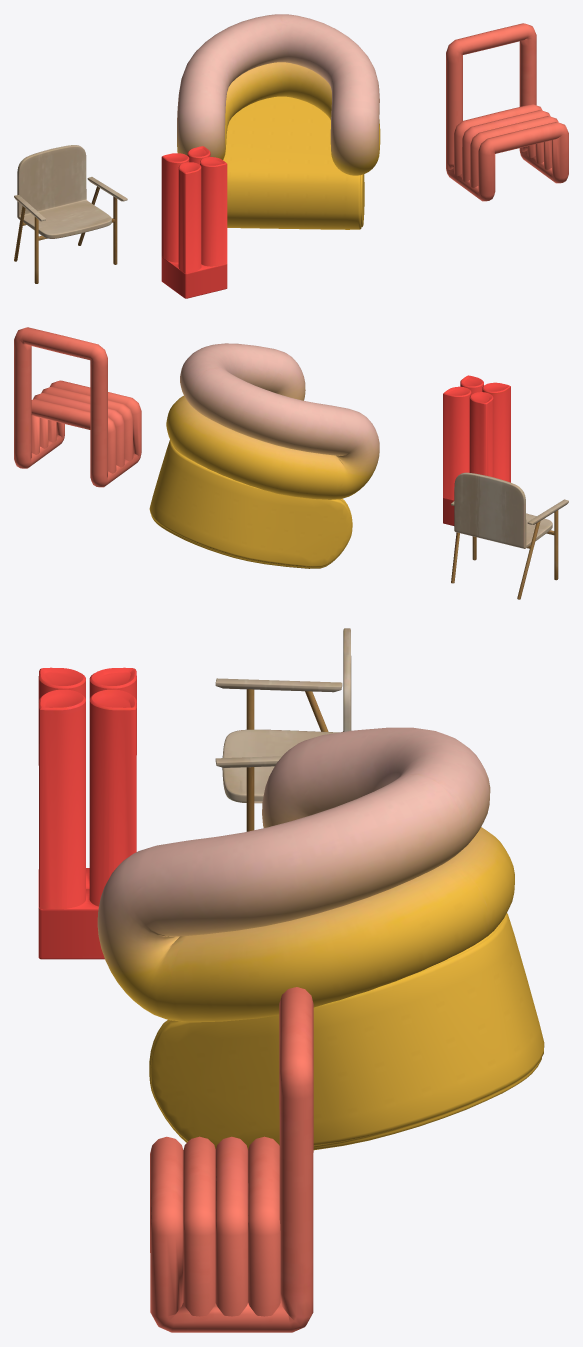
3 views of the same model, one above another, from view 1: azimuth 30°, elevation 25°; view 2: azimuth 150°, elevation 25°; view 3: azimuth 270°, elevation 25° (orthographic). The views are drawn at different scales.
Parts seen in each view (by area): view 1: Chair.002, Vert, Purifier.001, GardenChair.001; view 2: Chair.002, Vert, Purifier.001, GardenChair.001; view 3: Chair.002, Vert, Purifier.001, GardenChair.001.
Boxes of the visible parts, x1=… form: Chair.002: x1=177, y1=14, x2=380, y2=229; Vert: x1=446, y1=23, x2=568, y2=201; Purifier.001: x1=161, y1=146, x2=227, y2=298; GardenChair.001: x1=14, y1=145, x2=127, y2=283; Chair.002: x1=149, y1=343, x2=379, y2=568; Vert: x1=14, y1=327, x2=141, y2=487; Purifier.001: x1=443, y1=375, x2=510, y2=525; GardenChair.001: x1=451, y1=472, x2=568, y2=599; Chair.002: x1=97, y1=727, x2=544, y2=1150; Vert: x1=150, y1=987, x2=313, y2=1332; Purifier.001: x1=38, y1=667, x2=136, y2=959; GardenChair.001: x1=215, y1=628, x2=351, y2=831.
Bounding box in the file's own units: 7.24 × 2.39 × 3.08.
1 material, 1 textured.
